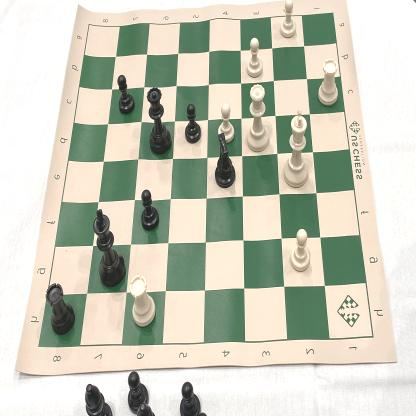black-king: (92, 204, 128, 292)
black-knight: (210, 133, 241, 192)
black-pawn: (139, 186, 160, 234), (184, 102, 204, 146), (116, 71, 135, 116)
black-queen: (146, 85, 174, 156)
black-rook: (47, 280, 77, 338)
white-king: (282, 105, 311, 190)
white-pawn: (288, 224, 315, 276), (216, 100, 239, 146), (245, 34, 266, 79), (280, 0, 300, 42)
white-queen: (244, 80, 272, 157)
white-rook: (127, 269, 158, 333), (316, 56, 342, 109)
